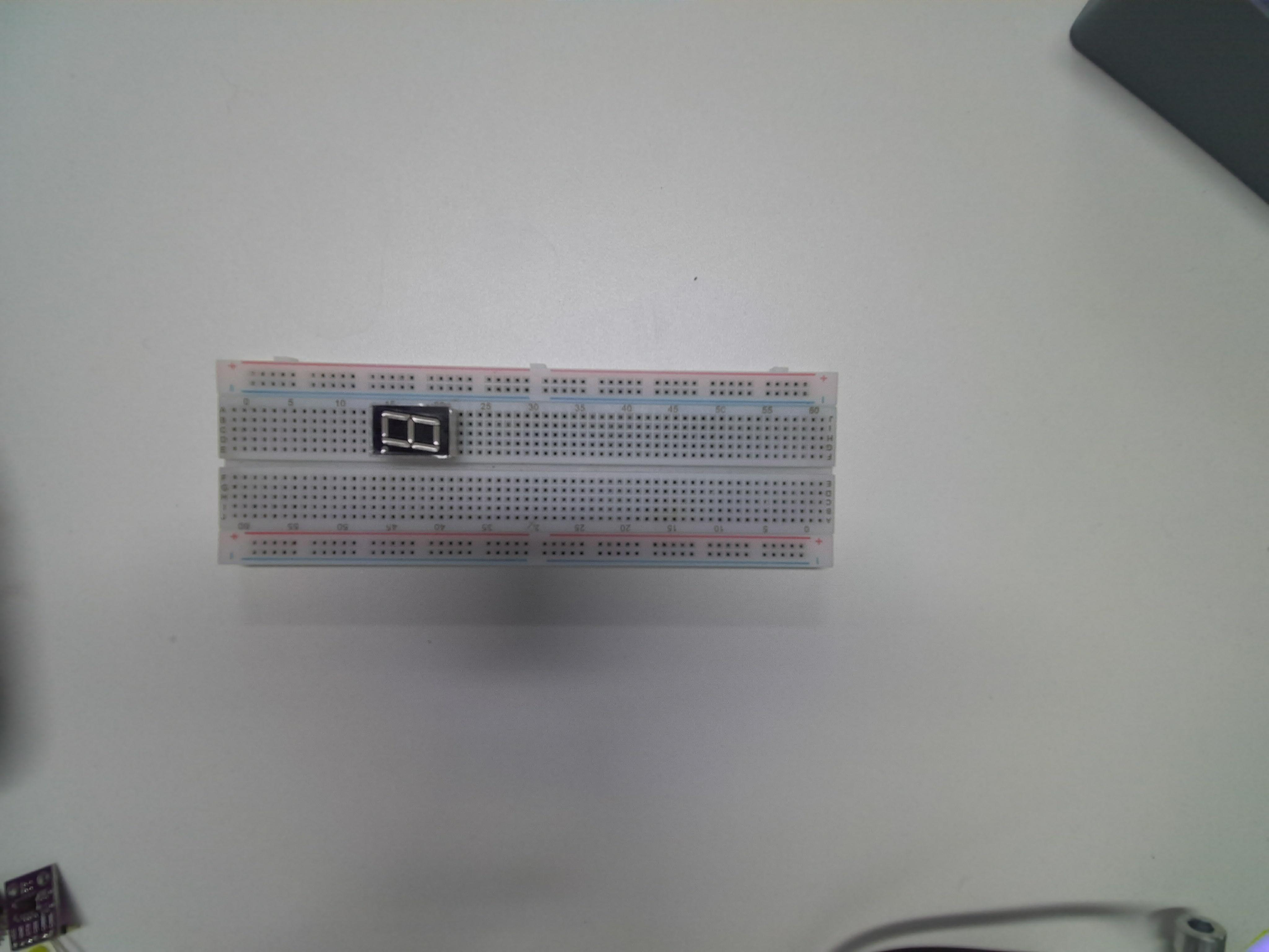base: (215, 359, 841, 574)
digit-board: (371, 401, 459, 460)
purple-board: (2, 865, 65, 947)
